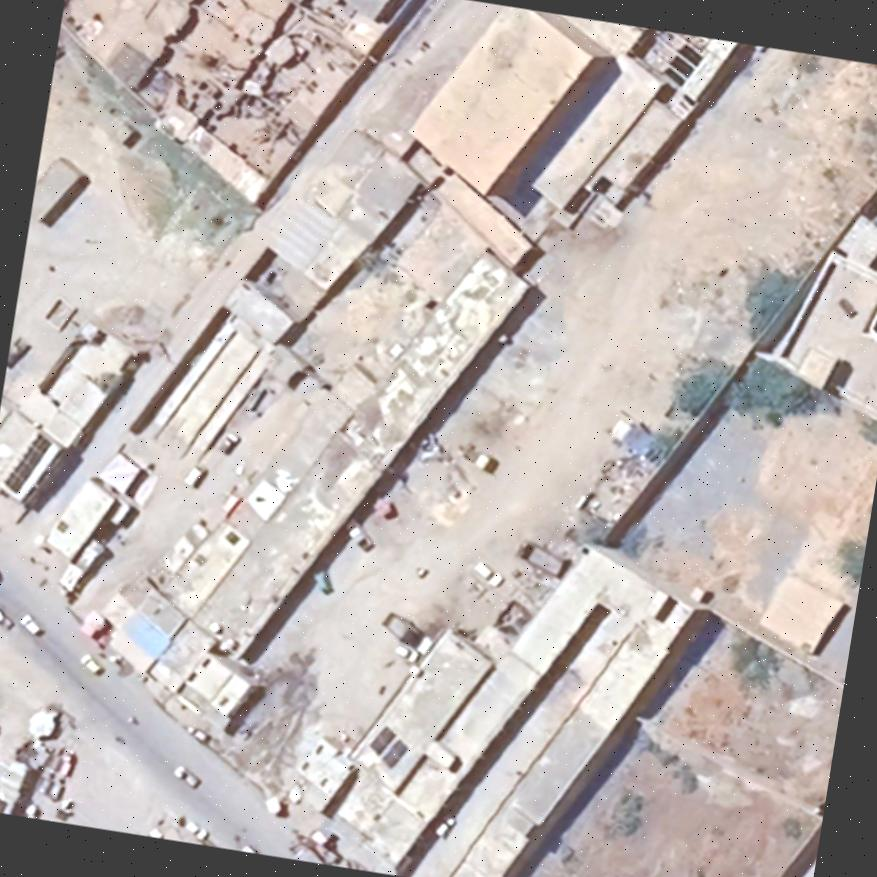Solarpanel: (363, 721, 413, 774)
